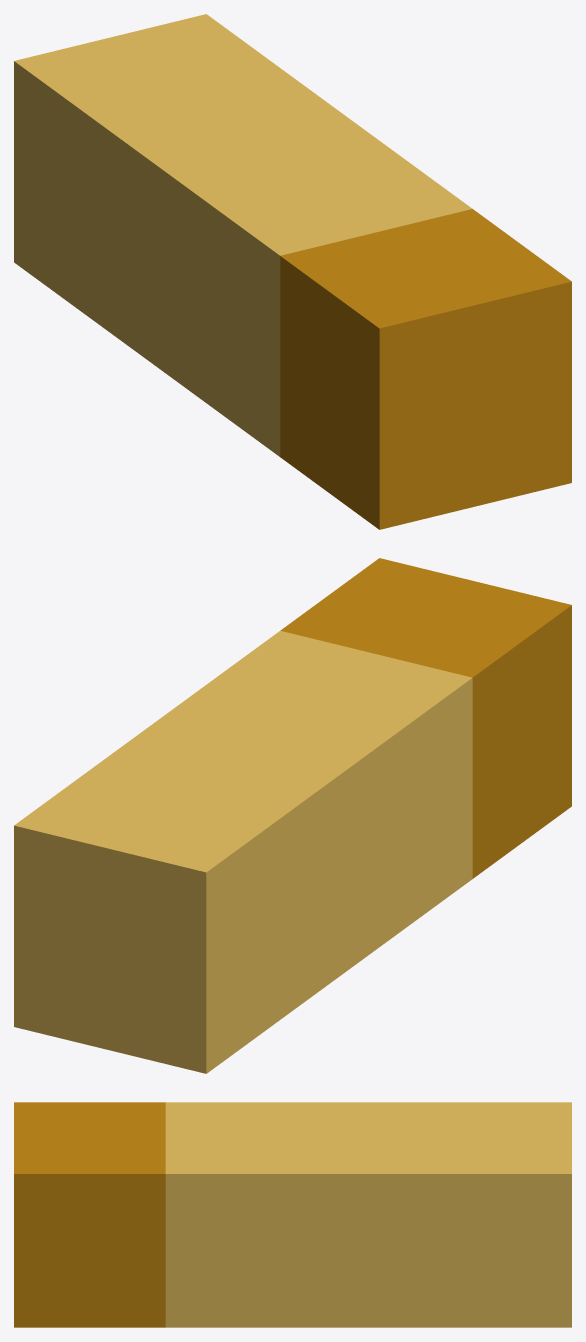
File: bullet_casing.gltf
The picture shows the model from 3 angles, top to bottom: view 1: azimuth 30°, elevation 25°; view 2: azimuth 150°, elevation 25°; view 3: azimuth 270°, elevation 25°; orthographic projection. The views are drawn at different scales.
Visible parts, largest first — view 1: Cube; view 2: Cube; view 3: Cube.
Boxes of the visible parts, bbox=[...] form: Cube: bbox=[14, 14, 571, 529]; Cube: bbox=[14, 558, 571, 1073]; Cube: bbox=[14, 1102, 571, 1327].
Bounding box in the file's own units: 1.58 × 1.58 × 5.19.
